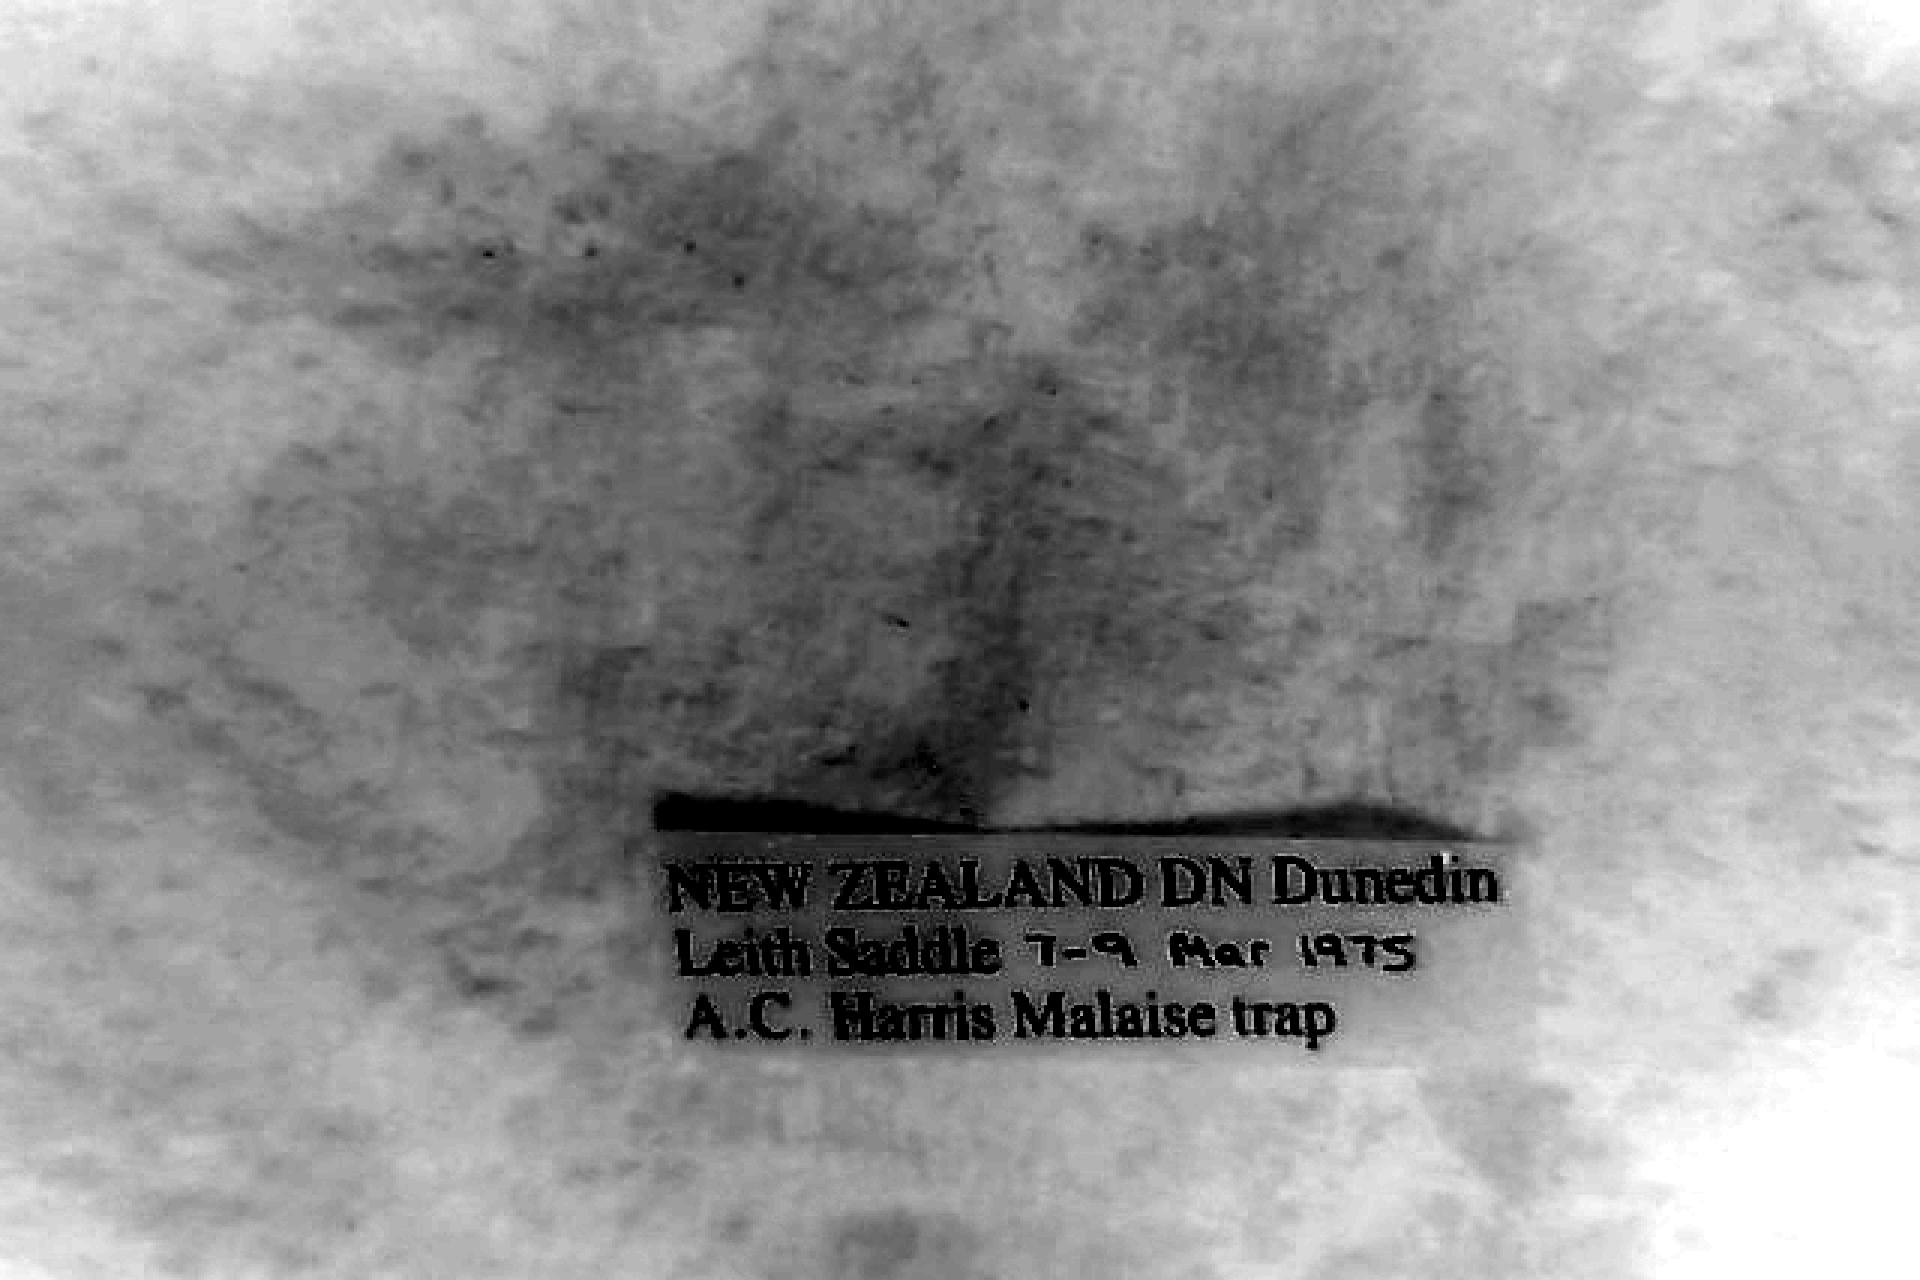mixed_label: (656, 830, 1507, 1057)
